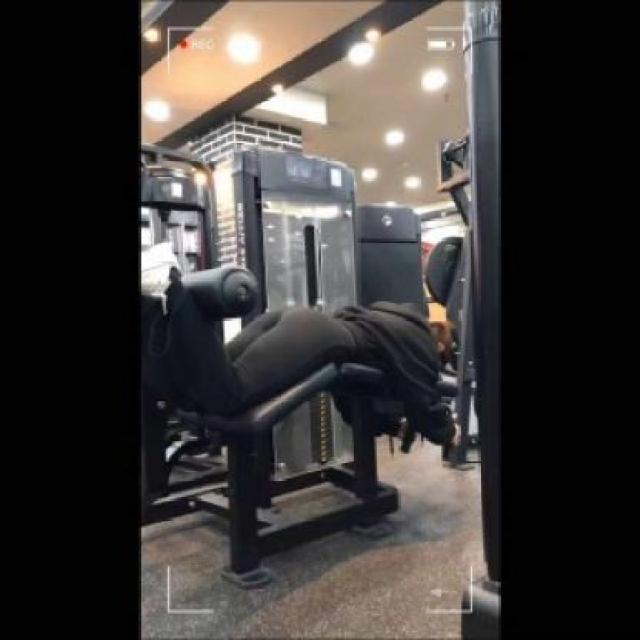reg curl machine: (140, 138, 486, 600)
